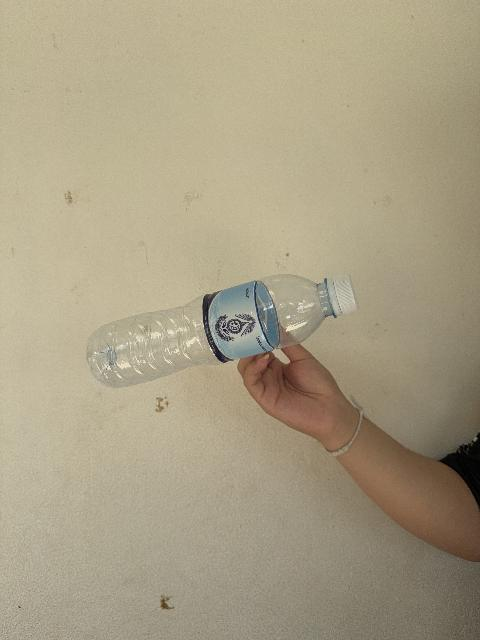bottle: (87, 275, 358, 386)
